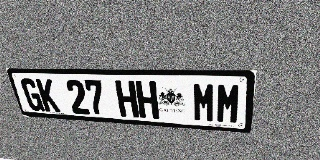2: (65, 79, 90, 114)
7: (83, 80, 108, 116)
G: (19, 78, 45, 111)
H: (115, 80, 139, 118), (135, 81, 159, 119)
K: (35, 79, 61, 113)
M: (216, 83, 242, 124), (192, 82, 216, 123)
